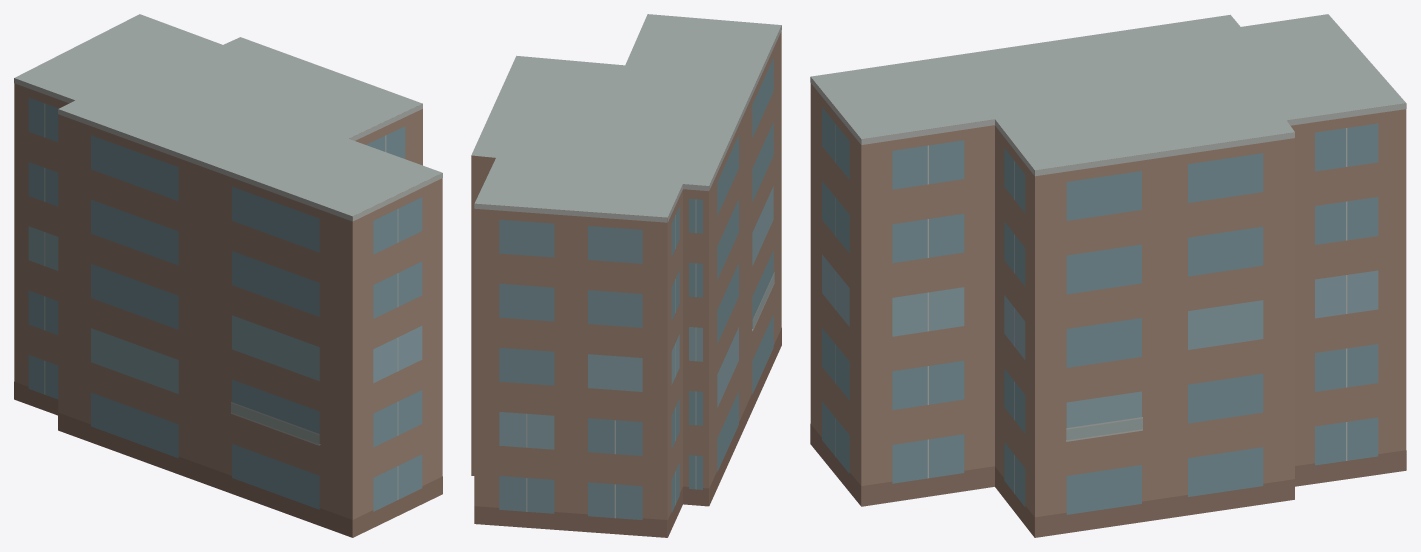
Rendered from survey-upis-32599543.glb.
3 views of the same model, side by side, from view 1: azimuth 30°, elevation 25°; view 2: azimuth 150°, elevation 25°; view 3: azimuth 270°, elevation 25° (orthographic). The views are drawn at different scales.
Parts seen in each view (by area): view 1: survey-upis-32599543.tmp; view 2: survey-upis-32599543.tmp; view 3: survey-upis-32599543.tmp.
Boxes of the visible parts, x1,y1,x2,y2 form: survey-upis-32599543.tmp: [14, 14, 442, 537]; survey-upis-32599543.tmp: [471, 14, 781, 537]; survey-upis-32599543.tmp: [810, 14, 1406, 537].
Size of the model in its own units: 13.83 by 15.15 by 22.28.
